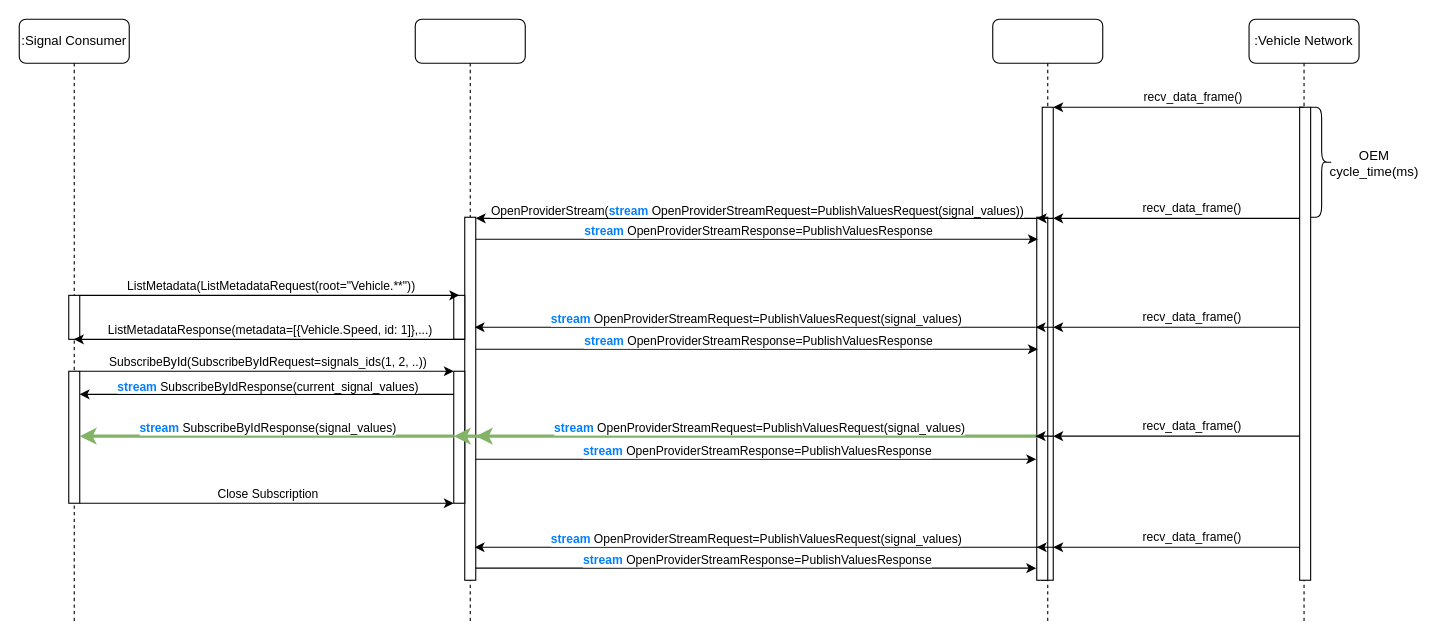
Image size: 1438x644. Some labels were removed from this diagram. Each missing label, with the box of its shape:
:DataBroker: (414, 18, 525, 624)
:Provider: (992, 18, 1103, 624)
